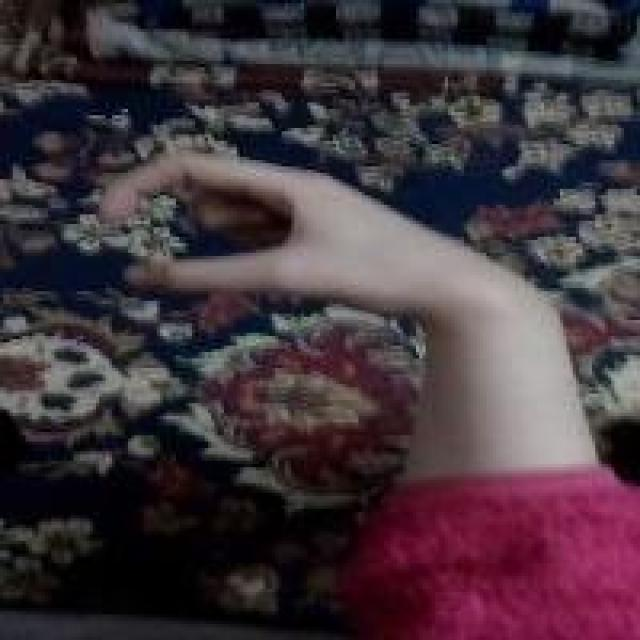Q: (93, 141, 502, 320)
